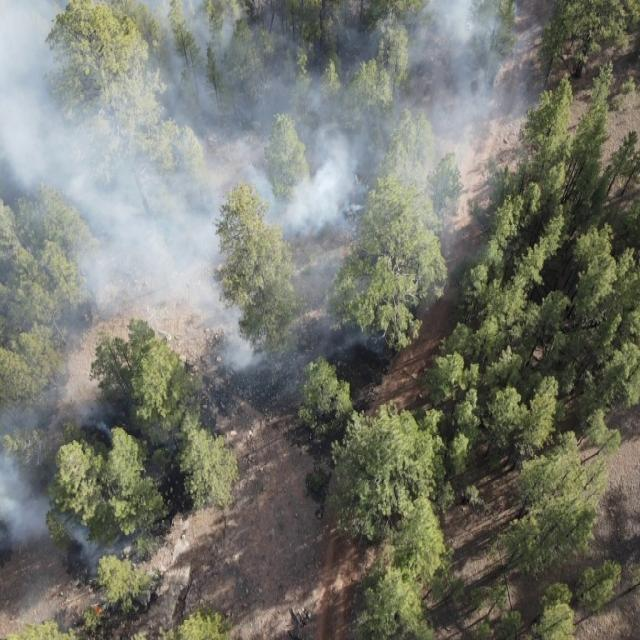fire: (92, 603, 105, 618)
smoke: (1, 0, 348, 231), (1, 232, 448, 376), (349, 0, 550, 122), (348, 120, 490, 232), (0, 388, 63, 552), (64, 520, 125, 574), (72, 391, 124, 437), (19, 573, 62, 621)
